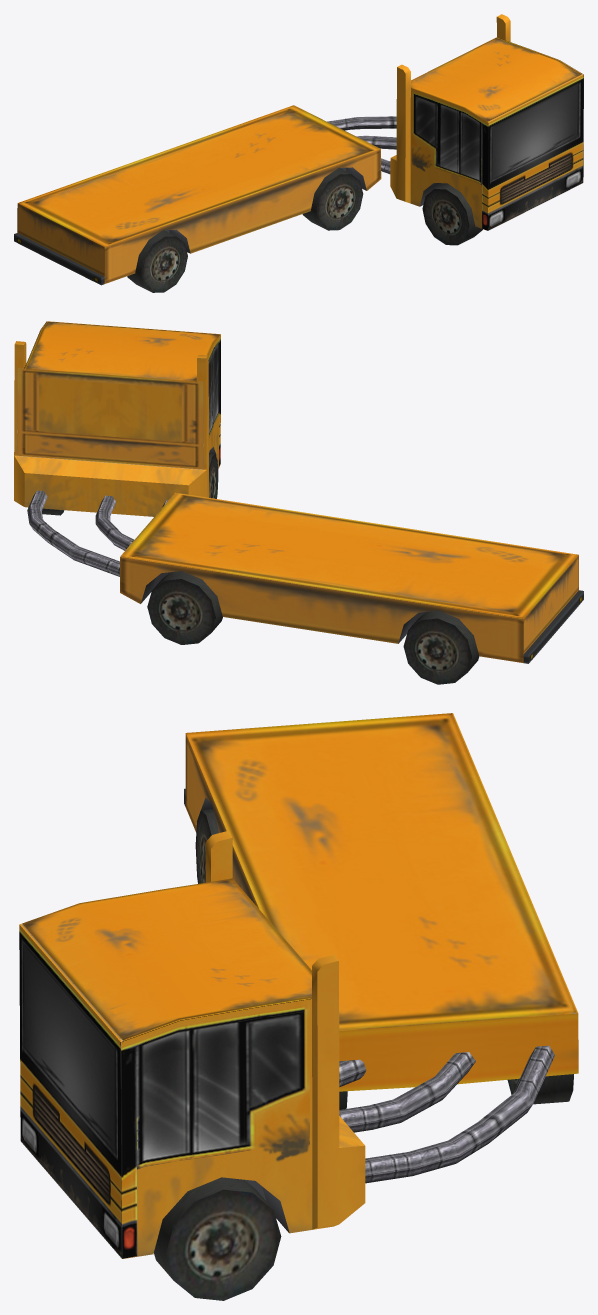
The model's file is truck.dae.
3 renders of one model, top to bottom at view 1: azimuth 30°, elevation 25°; view 2: azimuth 150°, elevation 25°; view 3: azimuth 270°, elevation 25°, orthographic. The views are drawn at different scales.
Parts seen in each view (by area): view 1: truck; view 2: truck; view 3: truck.
Boxes of the visible parts, box(x1,y1,x2,y2) form: truck: box(14, 14, 583, 292); truck: box(14, 321, 583, 684); truck: box(19, 713, 578, 1300).
Size of the model in its own units: 16.76 by 5.38 by 8.33.
1 material, 1 textured.
